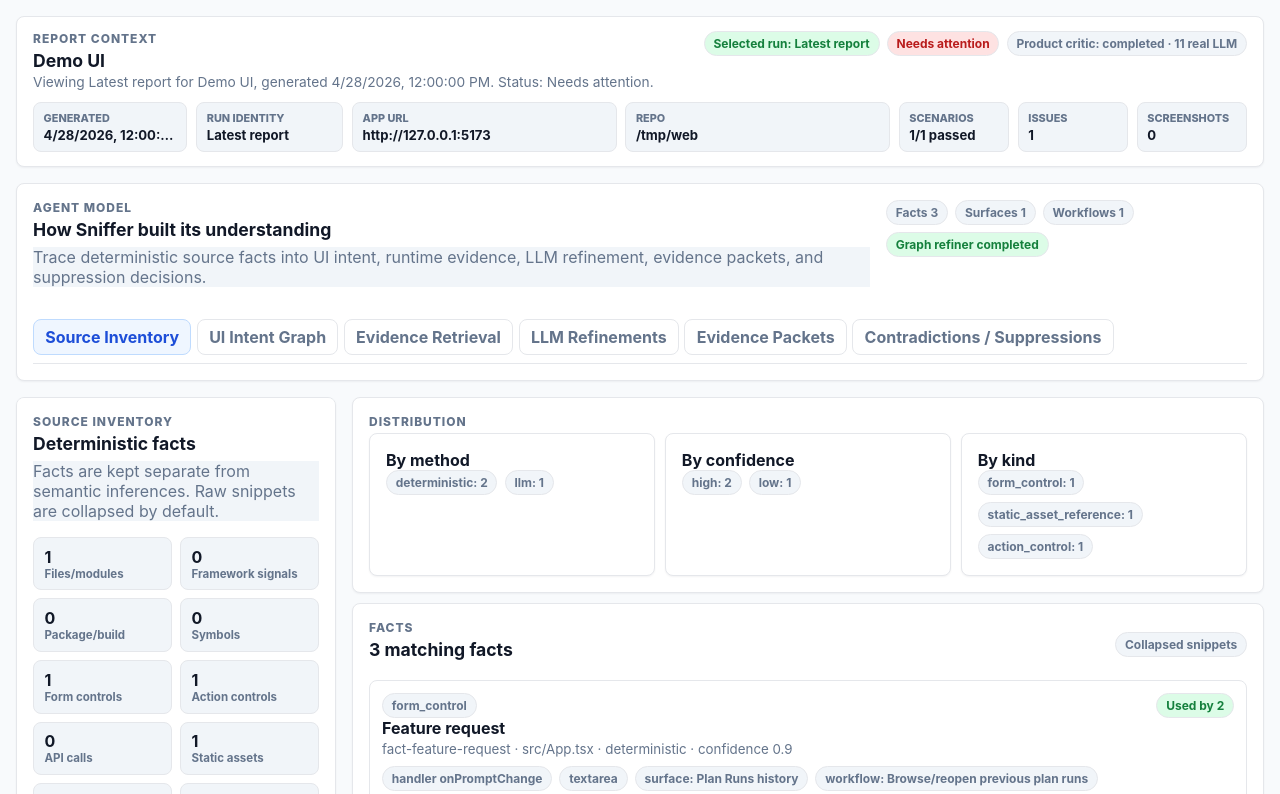
Test: Agent Model view › shows UI Intent Graph surfaces and detail drawer
The width and height of the screenshot is (1280, 794).
Step 1. Click the tab "UI Intent Graph" → x=268, y=337, box left=197, top=319, right=338, bottom=356
(page scrolled)
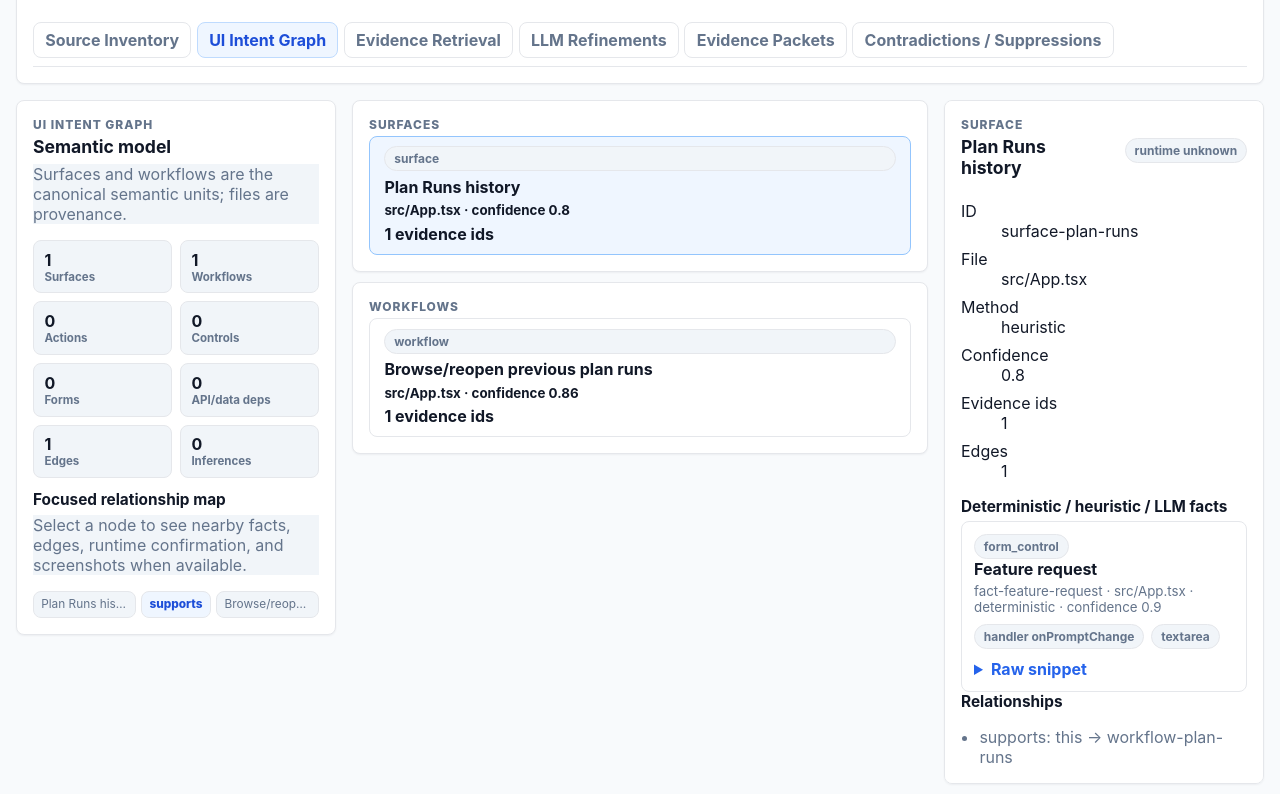
Check: the heading "Semantic model" is shown, box left=33, top=136, right=171, bottom=157
Check: the text "Plan Runs history" below "Focused relationship map" is shown, box left=41, top=597, right=138, bottom=611
Check: the heading "Focused relationship map" is shown, box left=33, top=490, right=226, bottom=509
